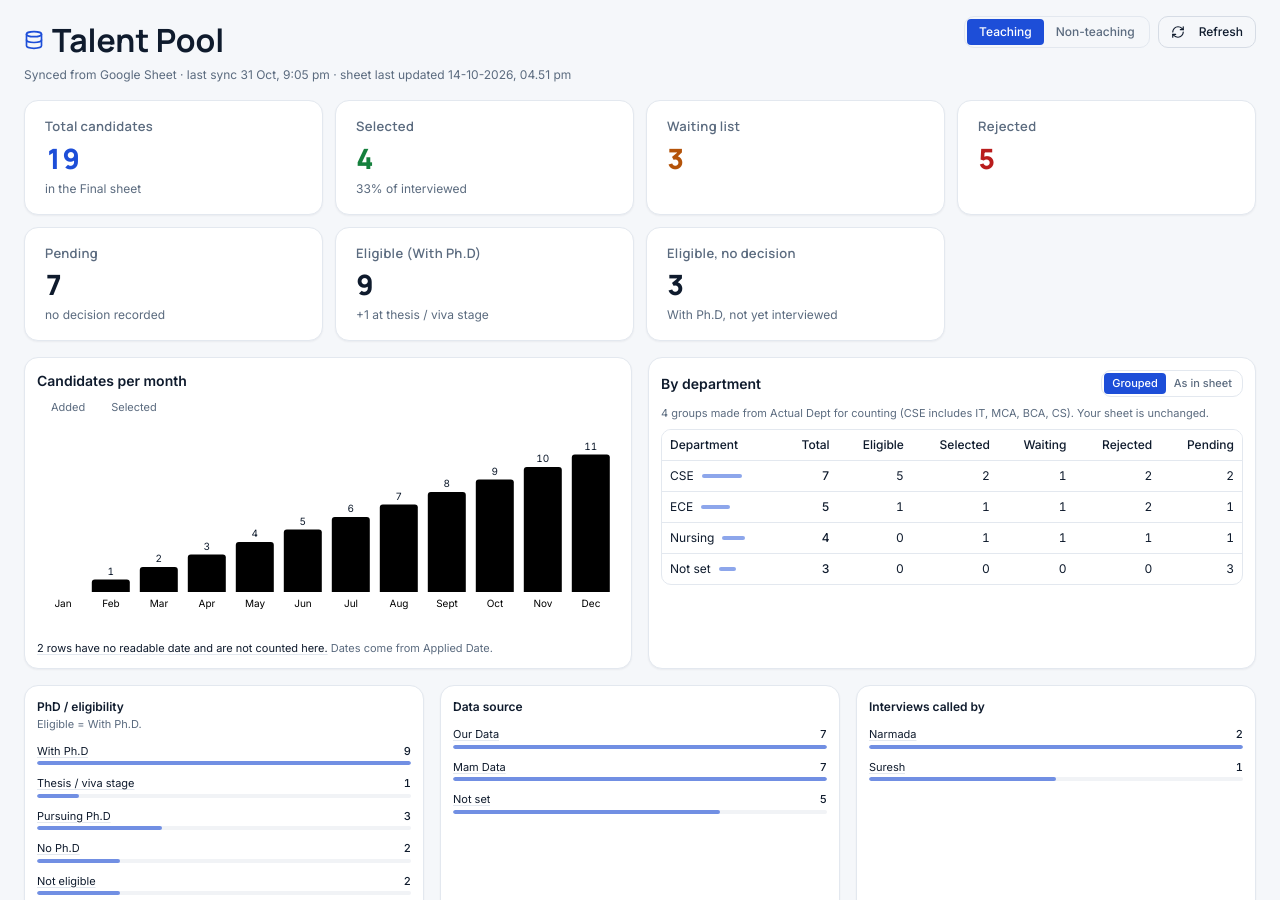
TalentPoolPage › by-department table › the Grouped / As-in-sheet toggle re-asks the API for the raw departments
The image size is (1280, 900).
Expected: the heading "By department" is shown, [661,373,761,394]
Expected: the text "4 groups made from Actual Dept" is shown, [661,406,1209,420]
Step 1. Click the button "As in sheet" → coordinates (1203, 383), box [1166,373,1240,394]
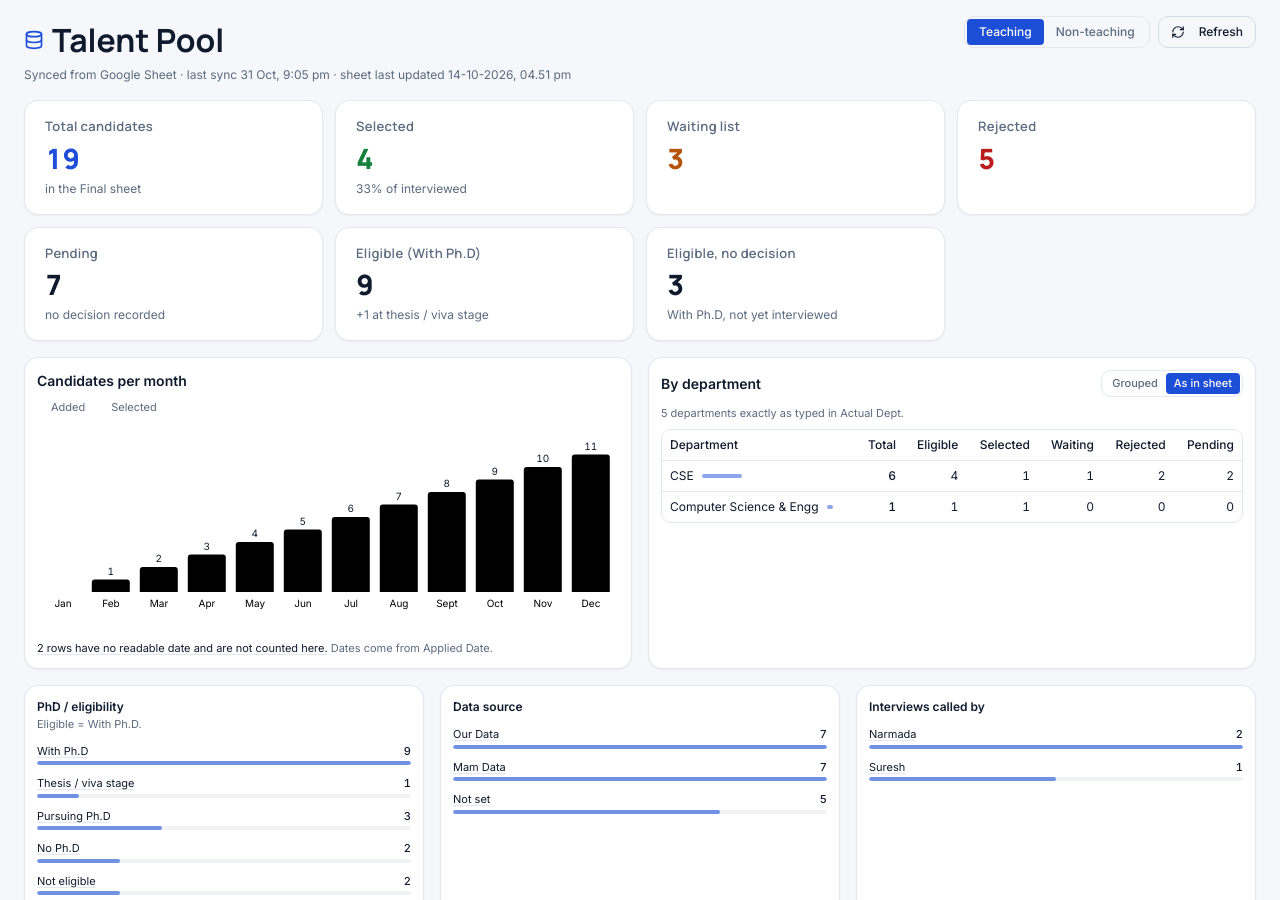
Result: the text "Computer Science & Engg" is shown at [670,498,818,516]
Result: the text "5 departments exactly as typed in Actual Dept." is shown at [661,406,904,420]
